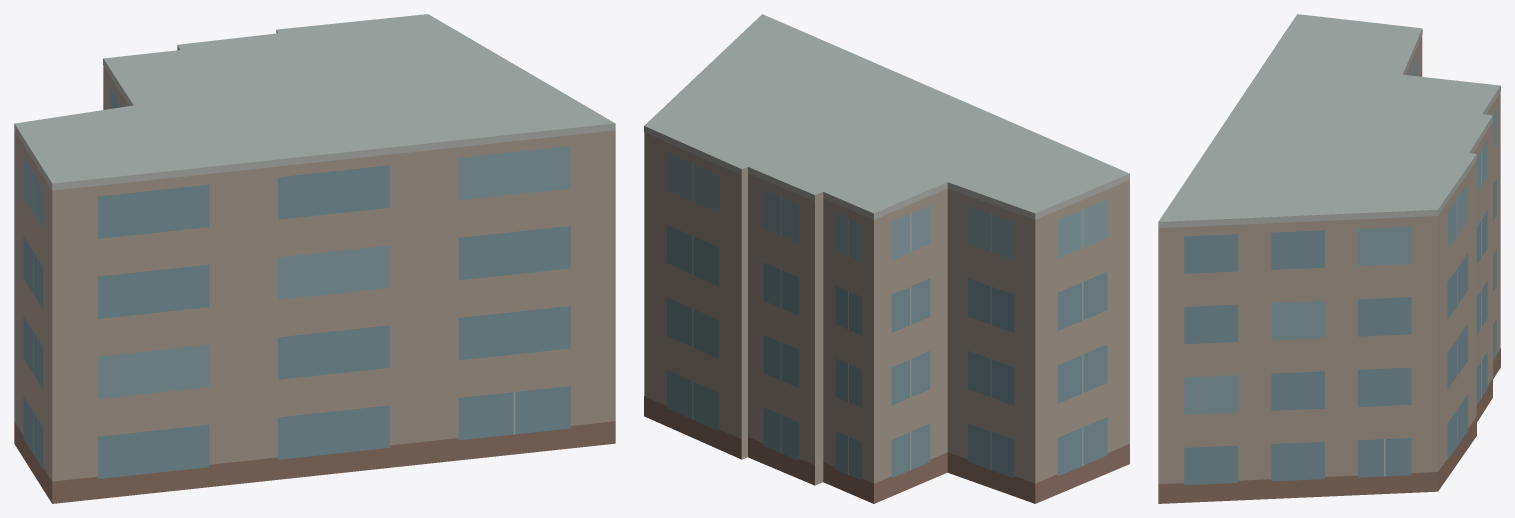
Rendered from survey-upis-32938852.glb.
The picture shows the model from 3 angles, left to right: view 1: azimuth 30°, elevation 25°; view 2: azimuth 150°, elevation 25°; view 3: azimuth 270°, elevation 25°; orthographic projection. The views are drawn at different scales.
Visible parts, largest first — view 1: survey-upis-32938852.tmp; view 2: survey-upis-32938852.tmp; view 3: survey-upis-32938852.tmp.
Boxes of the visible parts, x1,y1,x2,y2 form: survey-upis-32938852.tmp: (14,14,615,503); survey-upis-32938852.tmp: (644,14,1129,503); survey-upis-32938852.tmp: (1158,14,1500,503).
Size of the model in its own units: 17.58 by 11.1 by 12.24.
